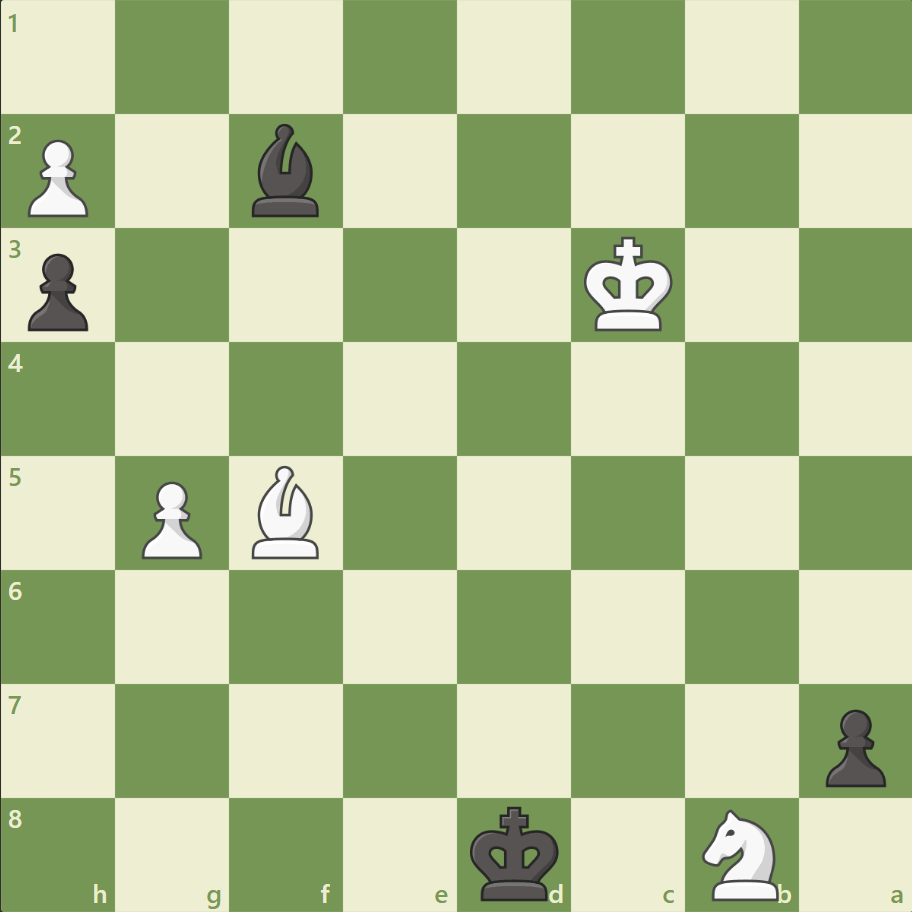B: (244, 460, 328, 563)
K: (579, 231, 679, 339)
N: (692, 802, 789, 904)
P: (133, 473, 208, 564), (20, 132, 95, 223)
b: (244, 120, 328, 222)
k: (465, 798, 565, 906)
p: (20, 246, 95, 337), (815, 700, 889, 791)
